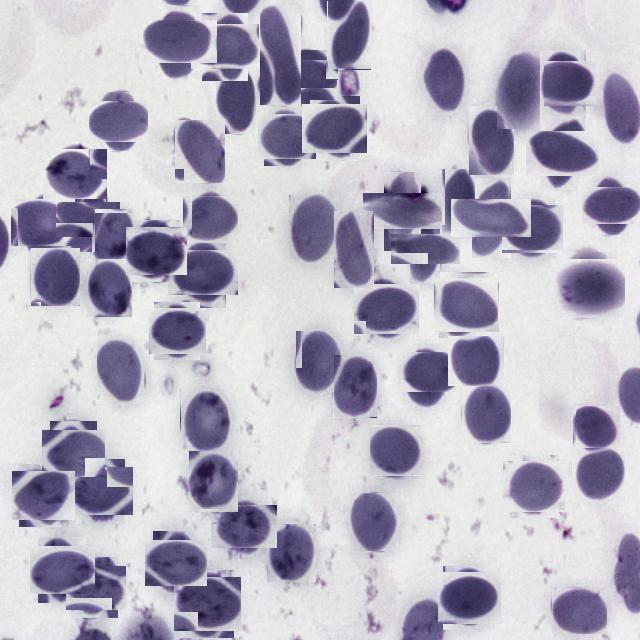red blood cell: (554, 255, 622, 322), (260, 5, 301, 105), (497, 46, 544, 128), (176, 574, 238, 634), (436, 274, 496, 334), (150, 12, 210, 72), (462, 188, 521, 248), (532, 124, 592, 182), (440, 569, 498, 627), (357, 280, 415, 338), (306, 100, 364, 158), (196, 18, 254, 76), (174, 244, 232, 302), (374, 182, 432, 240), (289, 195, 339, 262), (46, 145, 104, 202), (174, 120, 225, 184), (505, 458, 562, 515), (72, 463, 129, 520), (468, 106, 514, 176), (535, 55, 591, 112), (15, 195, 72, 251), (180, 388, 228, 454), (422, 45, 467, 115), (34, 542, 90, 598), (16, 468, 72, 524), (98, 339, 146, 404), (188, 451, 238, 513), (46, 425, 101, 481), (334, 211, 374, 288), (327, 1, 371, 70), (504, 202, 560, 256), (148, 536, 204, 590), (128, 224, 184, 278), (217, 500, 272, 554), (30, 248, 80, 307), (461, 386, 511, 444), (572, 448, 625, 502), (267, 524, 316, 582), (448, 336, 504, 386), (350, 493, 398, 551), (333, 355, 377, 418), (70, 561, 122, 614), (295, 331, 339, 393), (370, 426, 422, 478), (260, 110, 312, 162), (151, 304, 203, 356), (86, 259, 132, 317), (185, 194, 237, 245), (401, 346, 452, 397), (216, 69, 255, 134), (552, 588, 607, 634), (94, 96, 144, 146), (63, 194, 113, 244), (400, 224, 450, 274), (284, 55, 334, 104), (92, 209, 134, 264), (586, 182, 634, 230), (441, 169, 475, 235), (574, 404, 620, 450)
